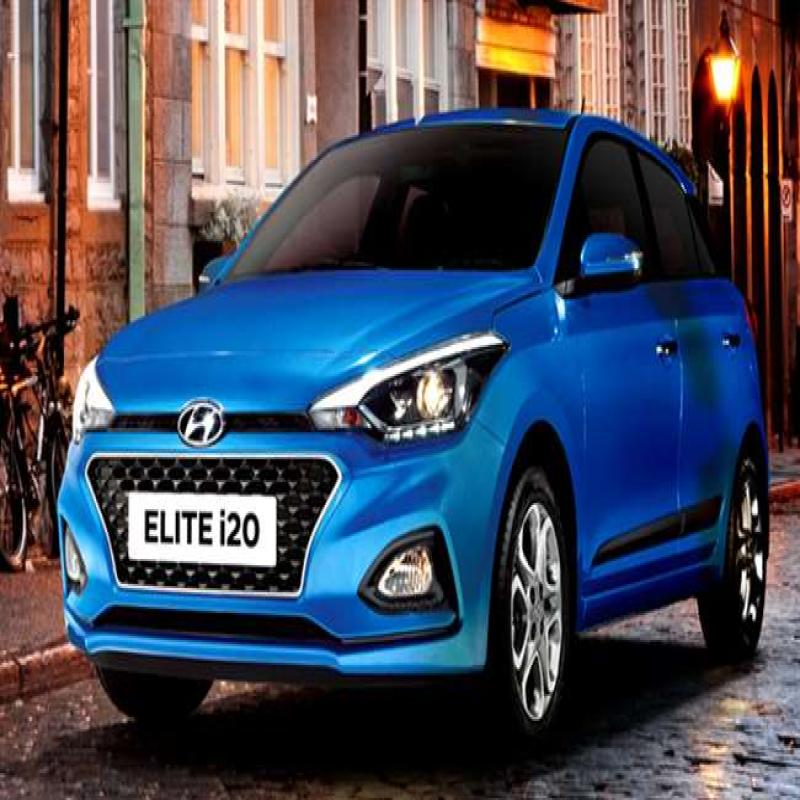car: (47, 69, 782, 732)
